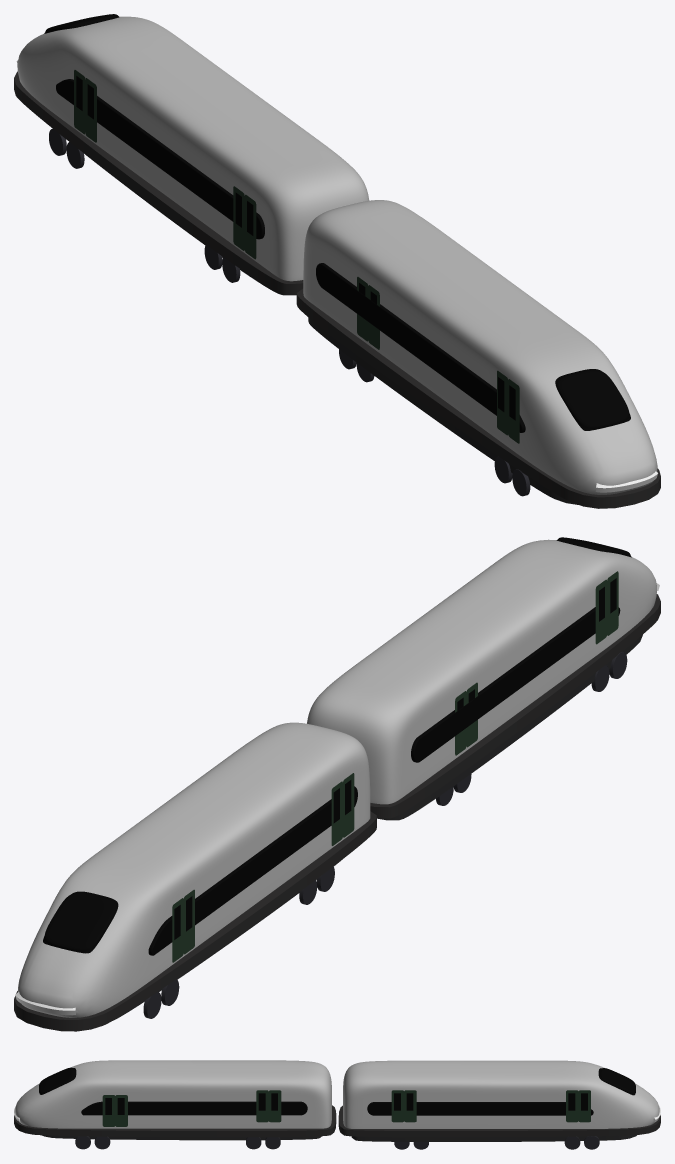
Rendered from tren_maya.glb.
3 views of the same model, one above another, from view 1: azimuth 30°, elevation 25°; view 2: azimuth 150°, elevation 25°; view 3: azimuth 270°, elevation 25° (orthographic). The views are drawn at different scales.
Visible parts, largest first — view 1: Cube 3 (×2), Shape 2 (×2), Rectangle (×2), Cube 5, Shape 3; view 2: Cube 3 (×2), Shape 2 (×2), Rectangle (×2), Cube 5, Shape 3; view 3: Cube 3 (×2), Shape 2 (×2), Rectangle (×2), door (×8), Shape 3 (×2), Cube 5 (×2), Cube 9 (×2), Cube 8 (×2), Cube 6, Cube 7.
Part boxes in pixels (bbox=[...]): Cube 3 (×2): bbox=[17, 16, 657, 494]; Shape 2 (×2): bbox=[14, 71, 660, 508]; Rectangle (×2): bbox=[56, 79, 525, 432]; Cube 5: bbox=[555, 369, 630, 430]; Shape 3: bbox=[308, 317, 577, 504]; Cube 3 (×2): bbox=[18, 539, 656, 1017]; Shape 2 (×2): bbox=[14, 594, 660, 1031]; Rectangle (×2): bbox=[148, 607, 620, 955]; Cube 5: bbox=[43, 891, 118, 953]; Shape 3: bbox=[378, 635, 642, 820]; Cube 3 (×2): bbox=[15, 1060, 659, 1128]; Shape 2 (×2): bbox=[14, 1105, 660, 1137]; Rectangle (×2): bbox=[81, 1101, 593, 1115]; door (×8): bbox=[102, 1090, 590, 1126]; Shape 3 (×2): bbox=[42, 1135, 636, 1141]; Cube 5 (×2): bbox=[39, 1067, 635, 1095]; Cube 9 (×2): bbox=[564, 1136, 599, 1149]; Cube 8 (×2): bbox=[246, 1137, 280, 1149]; Cube 6: bbox=[75, 1136, 90, 1149]; Cube 7: bbox=[94, 1136, 110, 1149].
Size of the model in its own units: 1.09 by 1.18 by 10.31.
